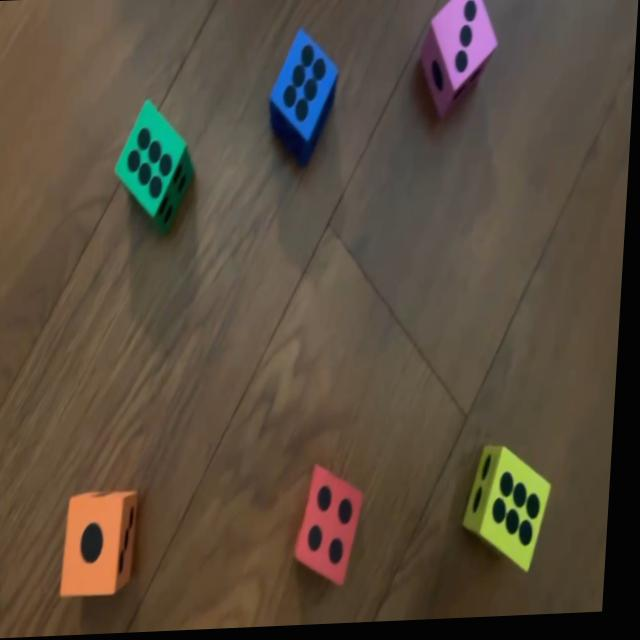blue_block: (268, 31, 340, 165)
red_block: (300, 464, 372, 590)
